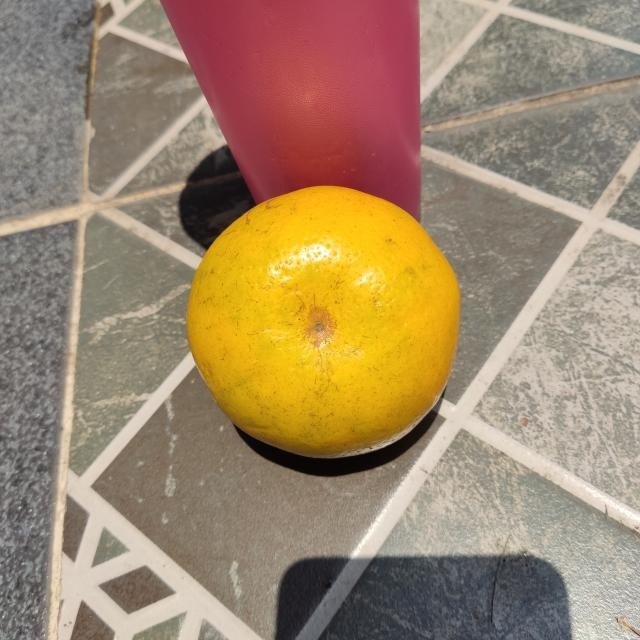agrume: (188, 180, 461, 464)
